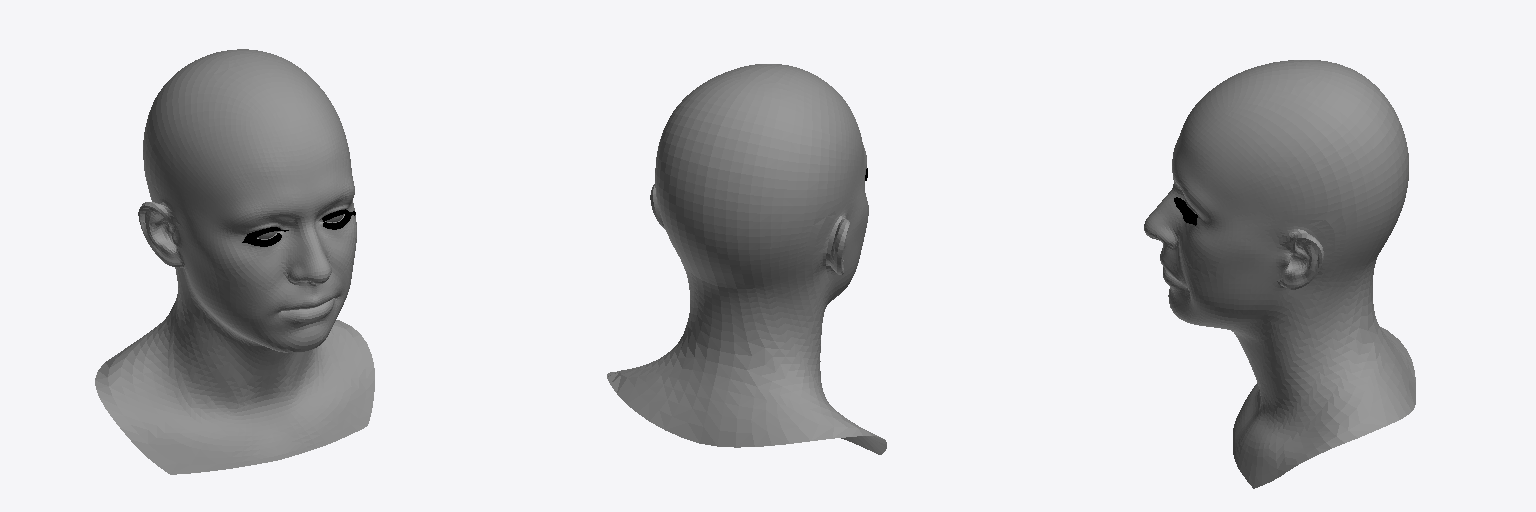
Rendered from mouthStretch_L.obj.
The picture shows the model from 3 angles: view 1: azimuth 30°, elevation 25°; view 2: azimuth 150°, elevation 25°; view 3: azimuth 270°, elevation 25°; orthographic projection.
Size of the model in its own units: 24.83 by 33.81 by 22.31.